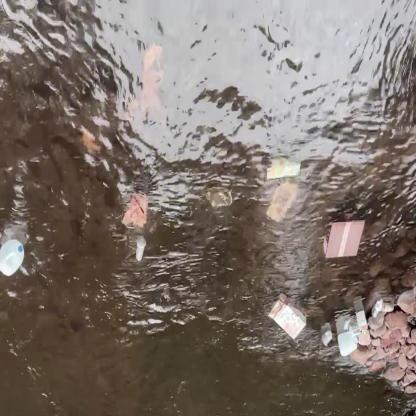Metal: (206, 182, 235, 209)
Plastic: (263, 178, 301, 228), (0, 233, 28, 280), (334, 329, 360, 361), (369, 295, 396, 319), (134, 235, 148, 264), (318, 329, 334, 350)
Trash: (118, 192, 150, 230)
